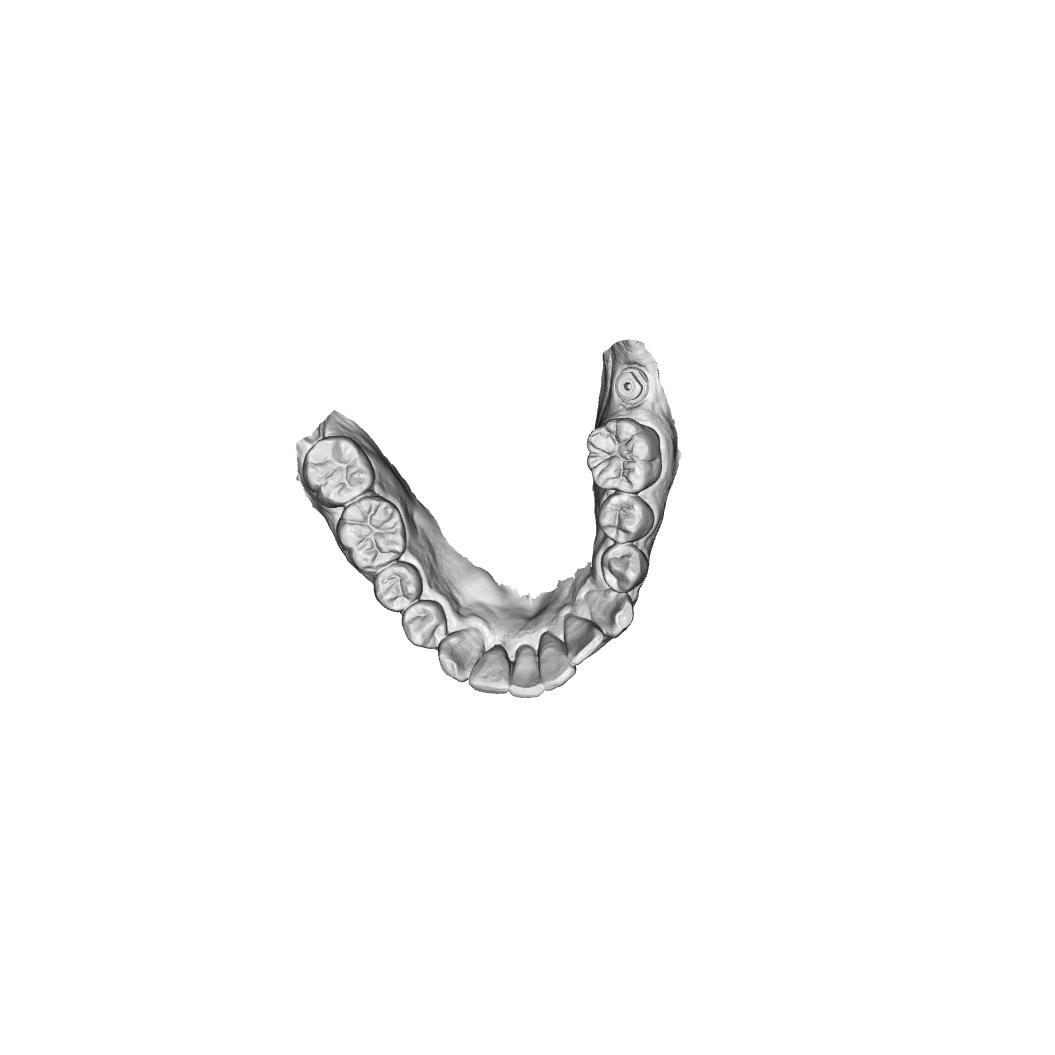canine: (437, 626, 485, 683), (583, 588, 635, 639)
implant: (614, 362, 650, 411)
incisor: (537, 630, 578, 693), (562, 613, 606, 665), (468, 644, 511, 695), (509, 643, 545, 700)
molar: (584, 417, 663, 494), (335, 495, 408, 574), (302, 435, 377, 509)
premolar: (596, 491, 655, 544), (599, 542, 650, 594), (373, 561, 424, 613), (401, 599, 449, 651)
